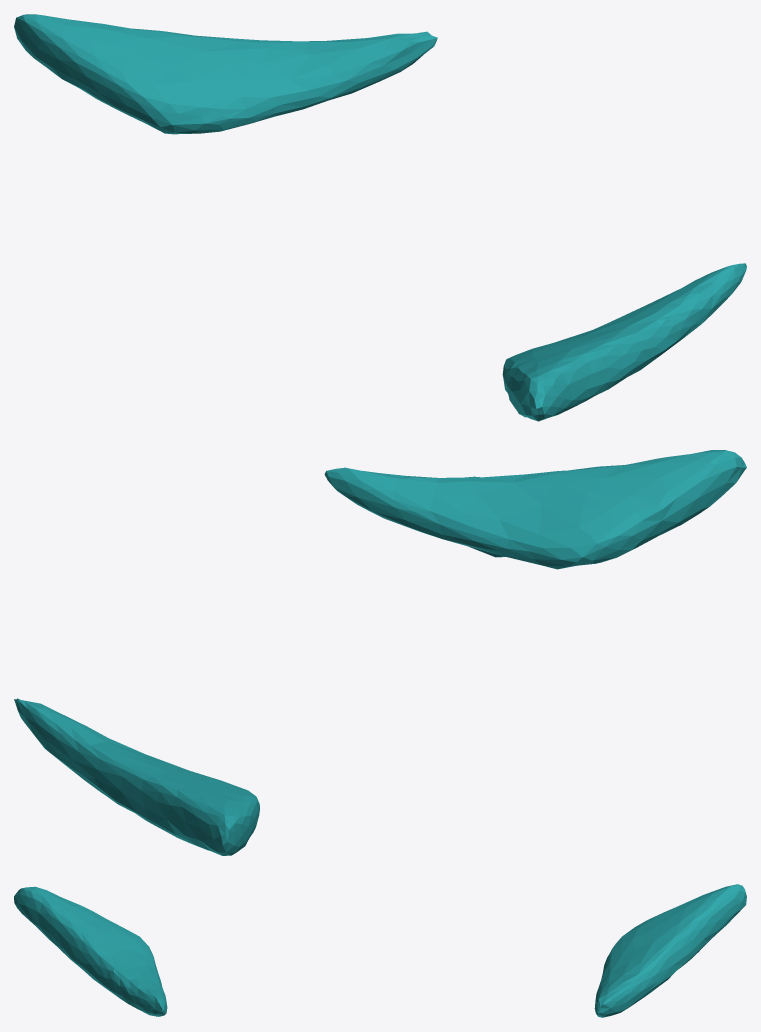
The picture shows the model from 3 angles, top to bottom: view 1: azimuth 30°, elevation 25°; view 2: azimuth 150°, elevation 25°; view 3: azimuth 270°, elevation 25°; orthographic projection. The views are drawn at different scales.
Parts seen in each view (by area): view 1: 41.obj; view 2: 41.obj; view 3: 41.obj.
Part boxes in pixels (bbox=[...]): 41.obj: bbox=[14, 14, 746, 421]; 41.obj: bbox=[14, 450, 746, 855]; 41.obj: bbox=[14, 884, 746, 1017].
Size of the model in its own units: 1626 by 380 by 4605.
